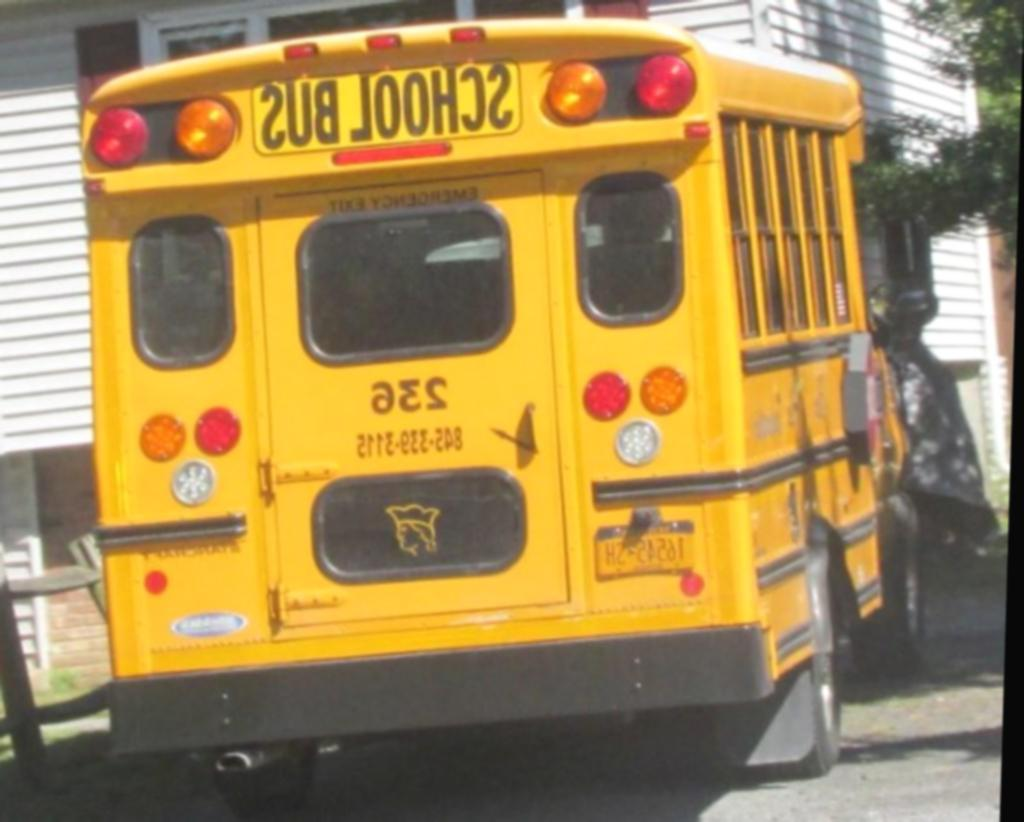License_Plate: (590, 516, 699, 581)
